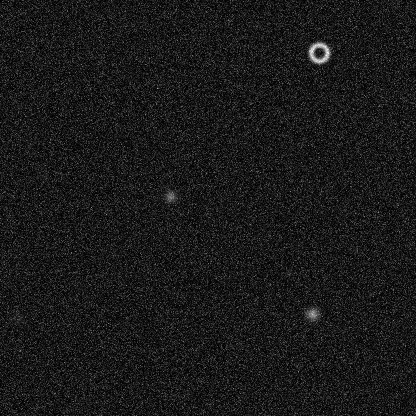Ring: (307, 40, 331, 64)
Spot: (304, 305, 320, 321), (9, 310, 25, 326), (162, 188, 178, 204)
